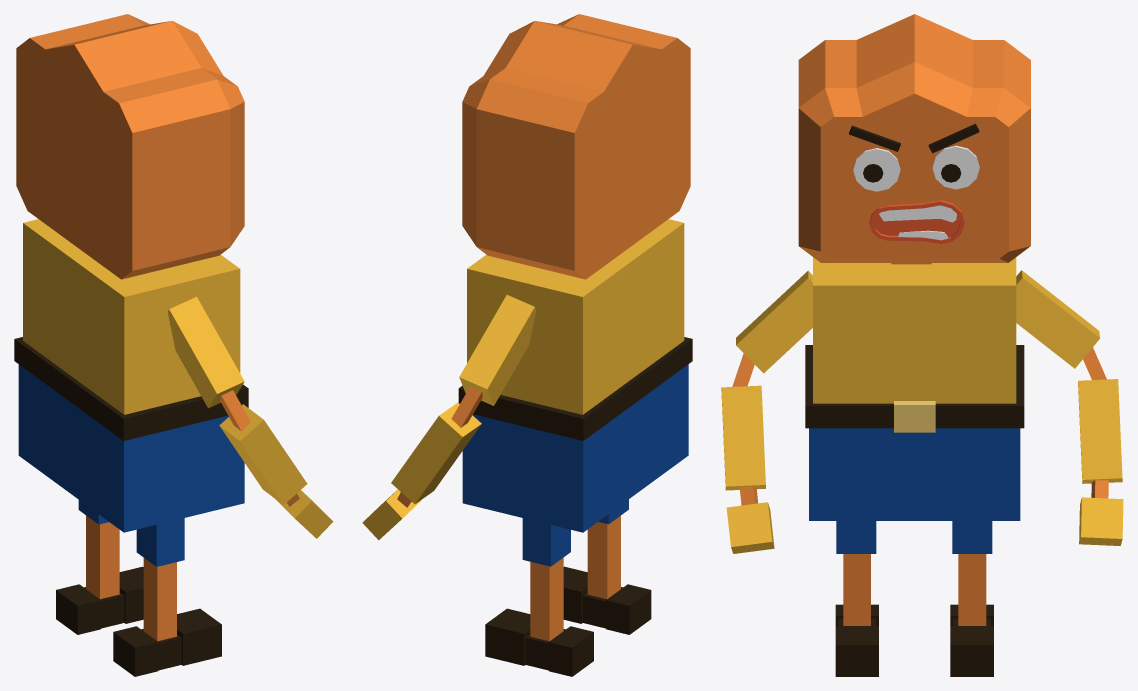
Rendered from rent_character.fbx.
3 views of the same model, side by side, from view 1: azimuth 30°, elevation 25°; view 2: azimuth 150°, elevation 25°; view 3: azimuth 270°, elevation 25° (orthographic).
Visible parts, largest first — view 1: cube; view 2: cube; view 3: cube.
Boxes of the visible parts, left/top/right/bottom form: cube: left=14, top=14, right=333, bottom=676; cube: left=362, top=14, right=692, bottom=676; cube: left=721, top=14, right=1123, bottom=676.
Bounding box in the file's own units: 198 × 663 × 396.
